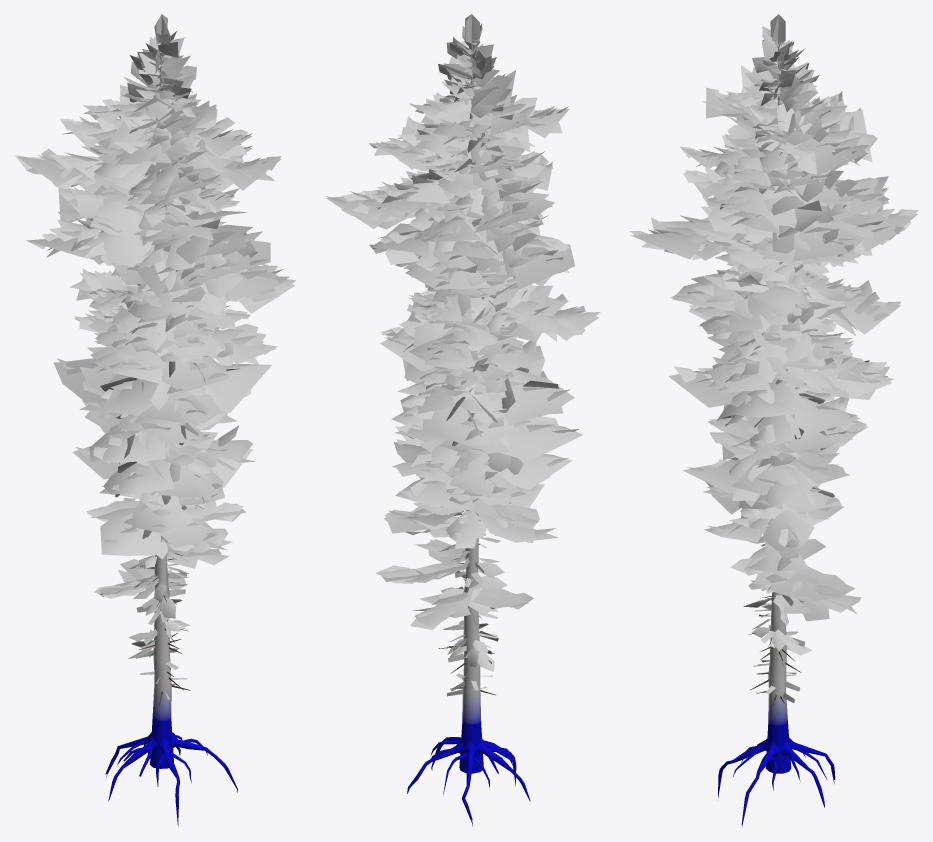
File: Tree3_LOD1.fbx
The picture shows the model from 3 angles, left to right: view 1: azimuth 30°, elevation 25°; view 2: azimuth 150°, elevation 25°; view 3: azimuth 270°, elevation 25°; orthographic projection.
Visible parts, largest first — view 1: polySurface1761; view 2: polySurface1761; view 3: polySurface1761.
Boxes of the visible parts, x1,y1,x2,y2 form: polySurface1761: (15, 14, 295, 826); polySurface1761: (326, 14, 600, 826); polySurface1761: (629, 14, 918, 826).
Bounding box in the file's own units: 802 × 2627 × 869.
